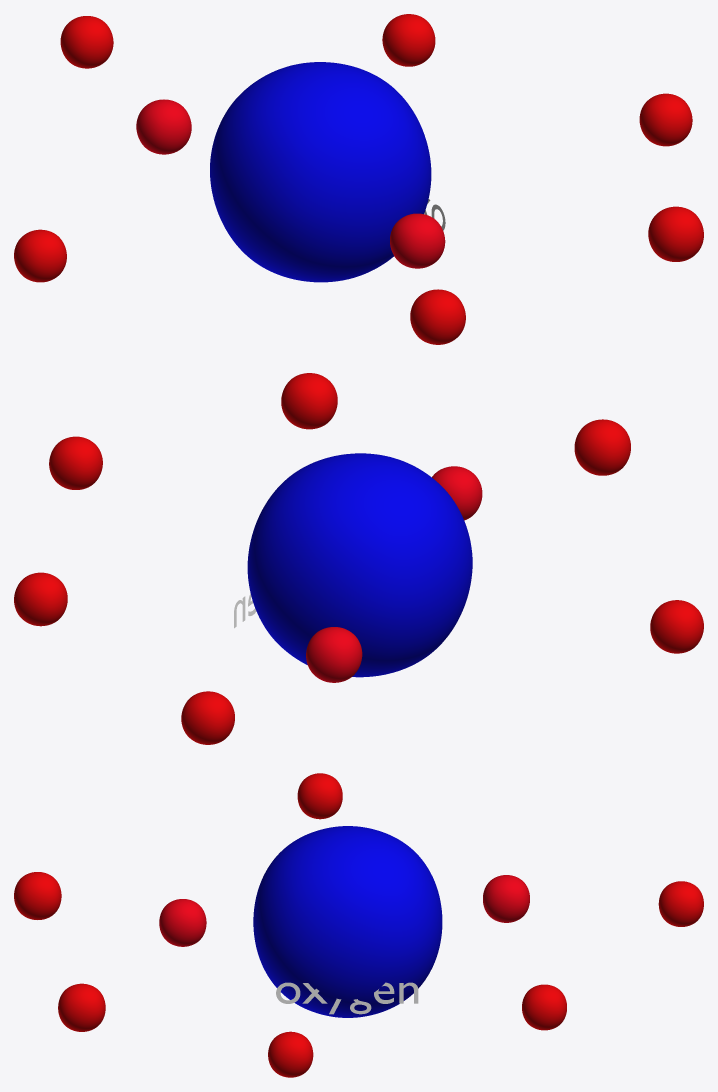
Rendered from oxygen.gltf.
3 renders of one model, top to bottom at view 1: azimuth 30°, elevation 25°; view 2: azimuth 150°, elevation 25°; view 3: azimuth 270°, elevation 25°, orthographic. The views are drawn at different scales.
Parts seen in each view (by area): view 1: Cube, Cube.008, Cube.005, Cube.003, Cube.002, Cube.006, Cube.007, Cube.001, Cube.004; view 2: Cube, Cube.008, Cube.005, Cube.003, Cube.007, Cube.004, Cube.006, Cube.001, Cube.002; view 3: Cube, Cube.008, Cube.005, Cube.002, Cube.003, Cube.004, Cube.006, Cube.007, Cube.001, Text.
Part boxes in pixels (left/top/right/bottom): Cube: left=210, top=62, right=431, bottom=282; Cube.008: left=410, top=289, right=465, bottom=344; Cube.005: left=648, top=206, right=703, bottom=261; Cube.003: left=136, top=99, right=191, bottom=154; Cube.002: left=390, top=213, right=445, bottom=268; Cube.006: left=639, top=93, right=692, bottom=146; Cube.007: left=382, top=14, right=435, bottom=66; Cube.001: left=60, top=16, right=113, bottom=68; Cube.004: left=14, top=229, right=66, bottom=282; Cube: left=247, top=453, right=472, bottom=677; Cube.008: left=574, top=419, right=630, bottom=475; Cube.005: left=281, top=373, right=337, bottom=429; Cube.003: left=306, top=627, right=362, bottom=682; Cube.007: left=14, top=572, right=67, bottom=626; Cube.004: left=650, top=600, right=703, bottom=653; Cube.006: left=49, top=436, right=102, bottom=489; Cube.001: left=181, top=691, right=234, bottom=744; Cube.002: left=432, top=466, right=482, bottom=520; Cube: left=253, top=826, right=442, bottom=1017; Cube.008: left=14, top=872, right=61, bottom=919; Cube.005: left=58, top=983, right=105, bottom=1031; Cube.002: left=159, top=899, right=206, bottom=946; Cube.003: left=483, top=875, right=529, bottom=922; Cube.004: left=297, top=773, right=342, bottom=819; Cube.006: left=268, top=1031, right=313, bottom=1077; Cube.007: left=522, top=984, right=566, bottom=1030; Cube.001: left=658, top=881, right=703, bottom=926; Text: left=276, top=982, right=418, bottom=1014.
Bounding box in the file's own units: 5.83 × 1.68 × 6.13.
